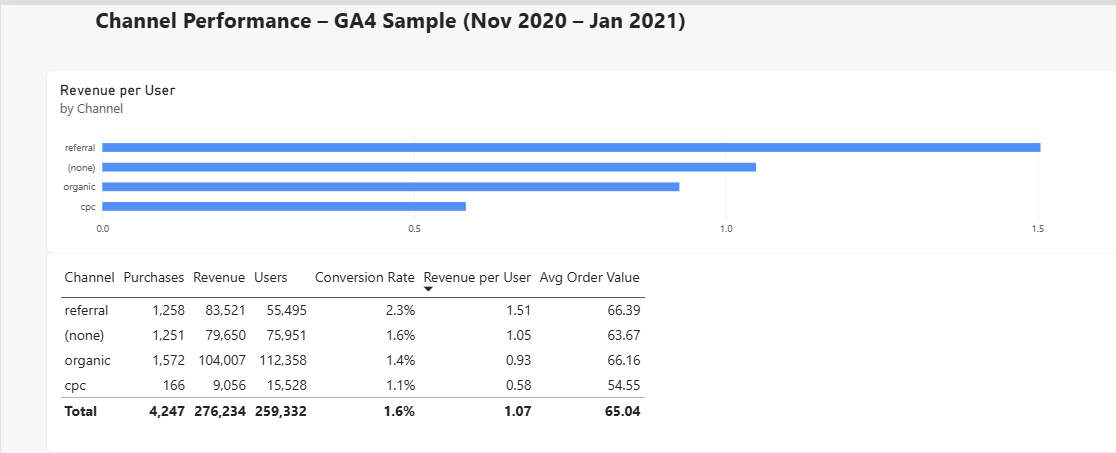

Layout of this report page (visuals, bound fields, positions):
{"tool":"powerbi","page":{"name":"Page 1","canvas":[1920,1080],"ordinal":0},"visuals":[{"type":"tableEx","fields":{"Values":["channel_performance.medium","Sum(channel_performance.purchases)","Sum(channel_performance.revenue)","Sum(channel_performance.users)","channel_performance.Conversion Rate","channel_performance.Revenue per User","channel_performance.Avg Order Value"]},"box":[56.6,308.1,1337.5,227.5],"z":0},{"type":"clusteredBarChart","fields":{"Category":["channel_performance.medium"],"Y":["channel_performance.Revenue per User"]},"box":[56.6,80.1,1338,228],"z":1},{"type":"textbox","box":[118,0.7,775.7,61.4],"z":2}]}

Visuals, with their boxes on the page's 1920x1080 design canvas (x1, y1, x2, y2). These are canvas units, not pixel positions in the 1116x453 screenshot, which may show the page scaled, cropped or inside an application window:
tableEx - channel_performance.medium x Sum(channel_performance.purchases): (57,308,1394,536)
clusteredBarChart - channel_performance.medium x channel_performance.Revenue per User: (57,80,1395,308)
textbox: (118,1,894,62)
